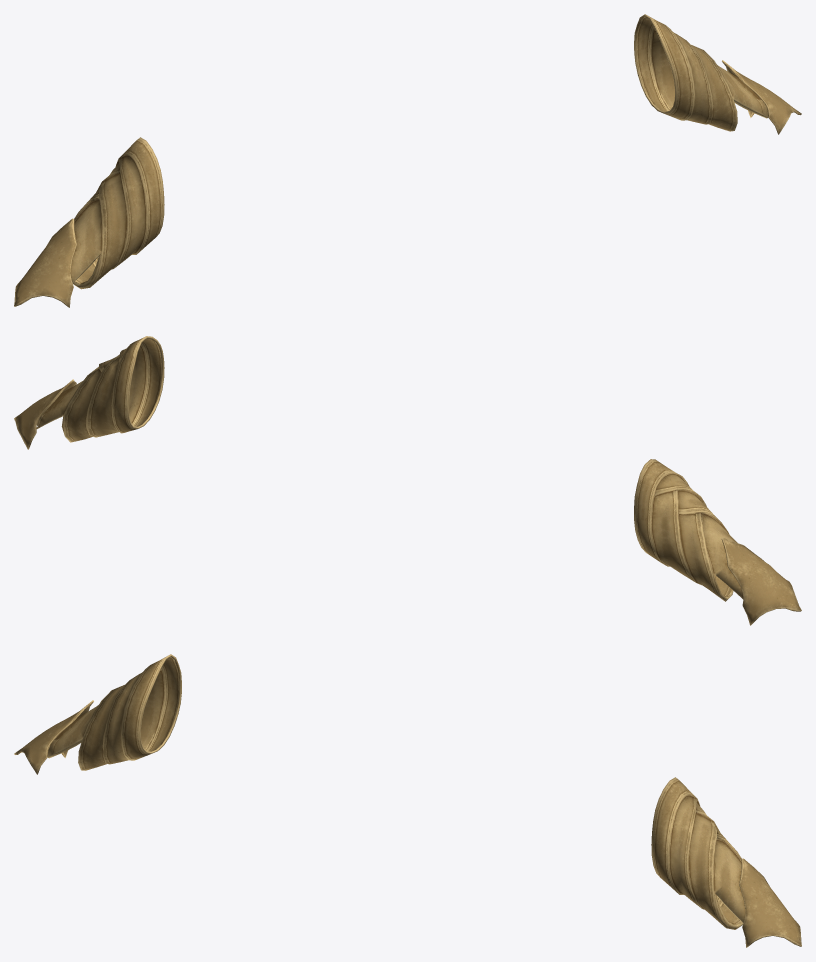
The model's file is rivendell_vambraces_1.fbx.
The picture shows the model from 3 angles, top to bottom: view 1: azimuth 30°, elevation 25°; view 2: azimuth 150°, elevation 25°; view 3: azimuth 330°, elevation 25°; orthographic projection.
Parts seen in each view (by area): view 1: rivendell_vambraces_1; view 2: rivendell_vambraces_1; view 3: rivendell_vambraces_1.
Boxes of the visible parts, x1,y1,x2,y2 form: rivendell_vambraces_1: (14,14,801,307); rivendell_vambraces_1: (14,336,801,625); rivendell_vambraces_1: (14,654,801,947).
Bounding box in the file's own units: 1.45 × 0.1375 × 0.2351.
1 material, 1 textured.
